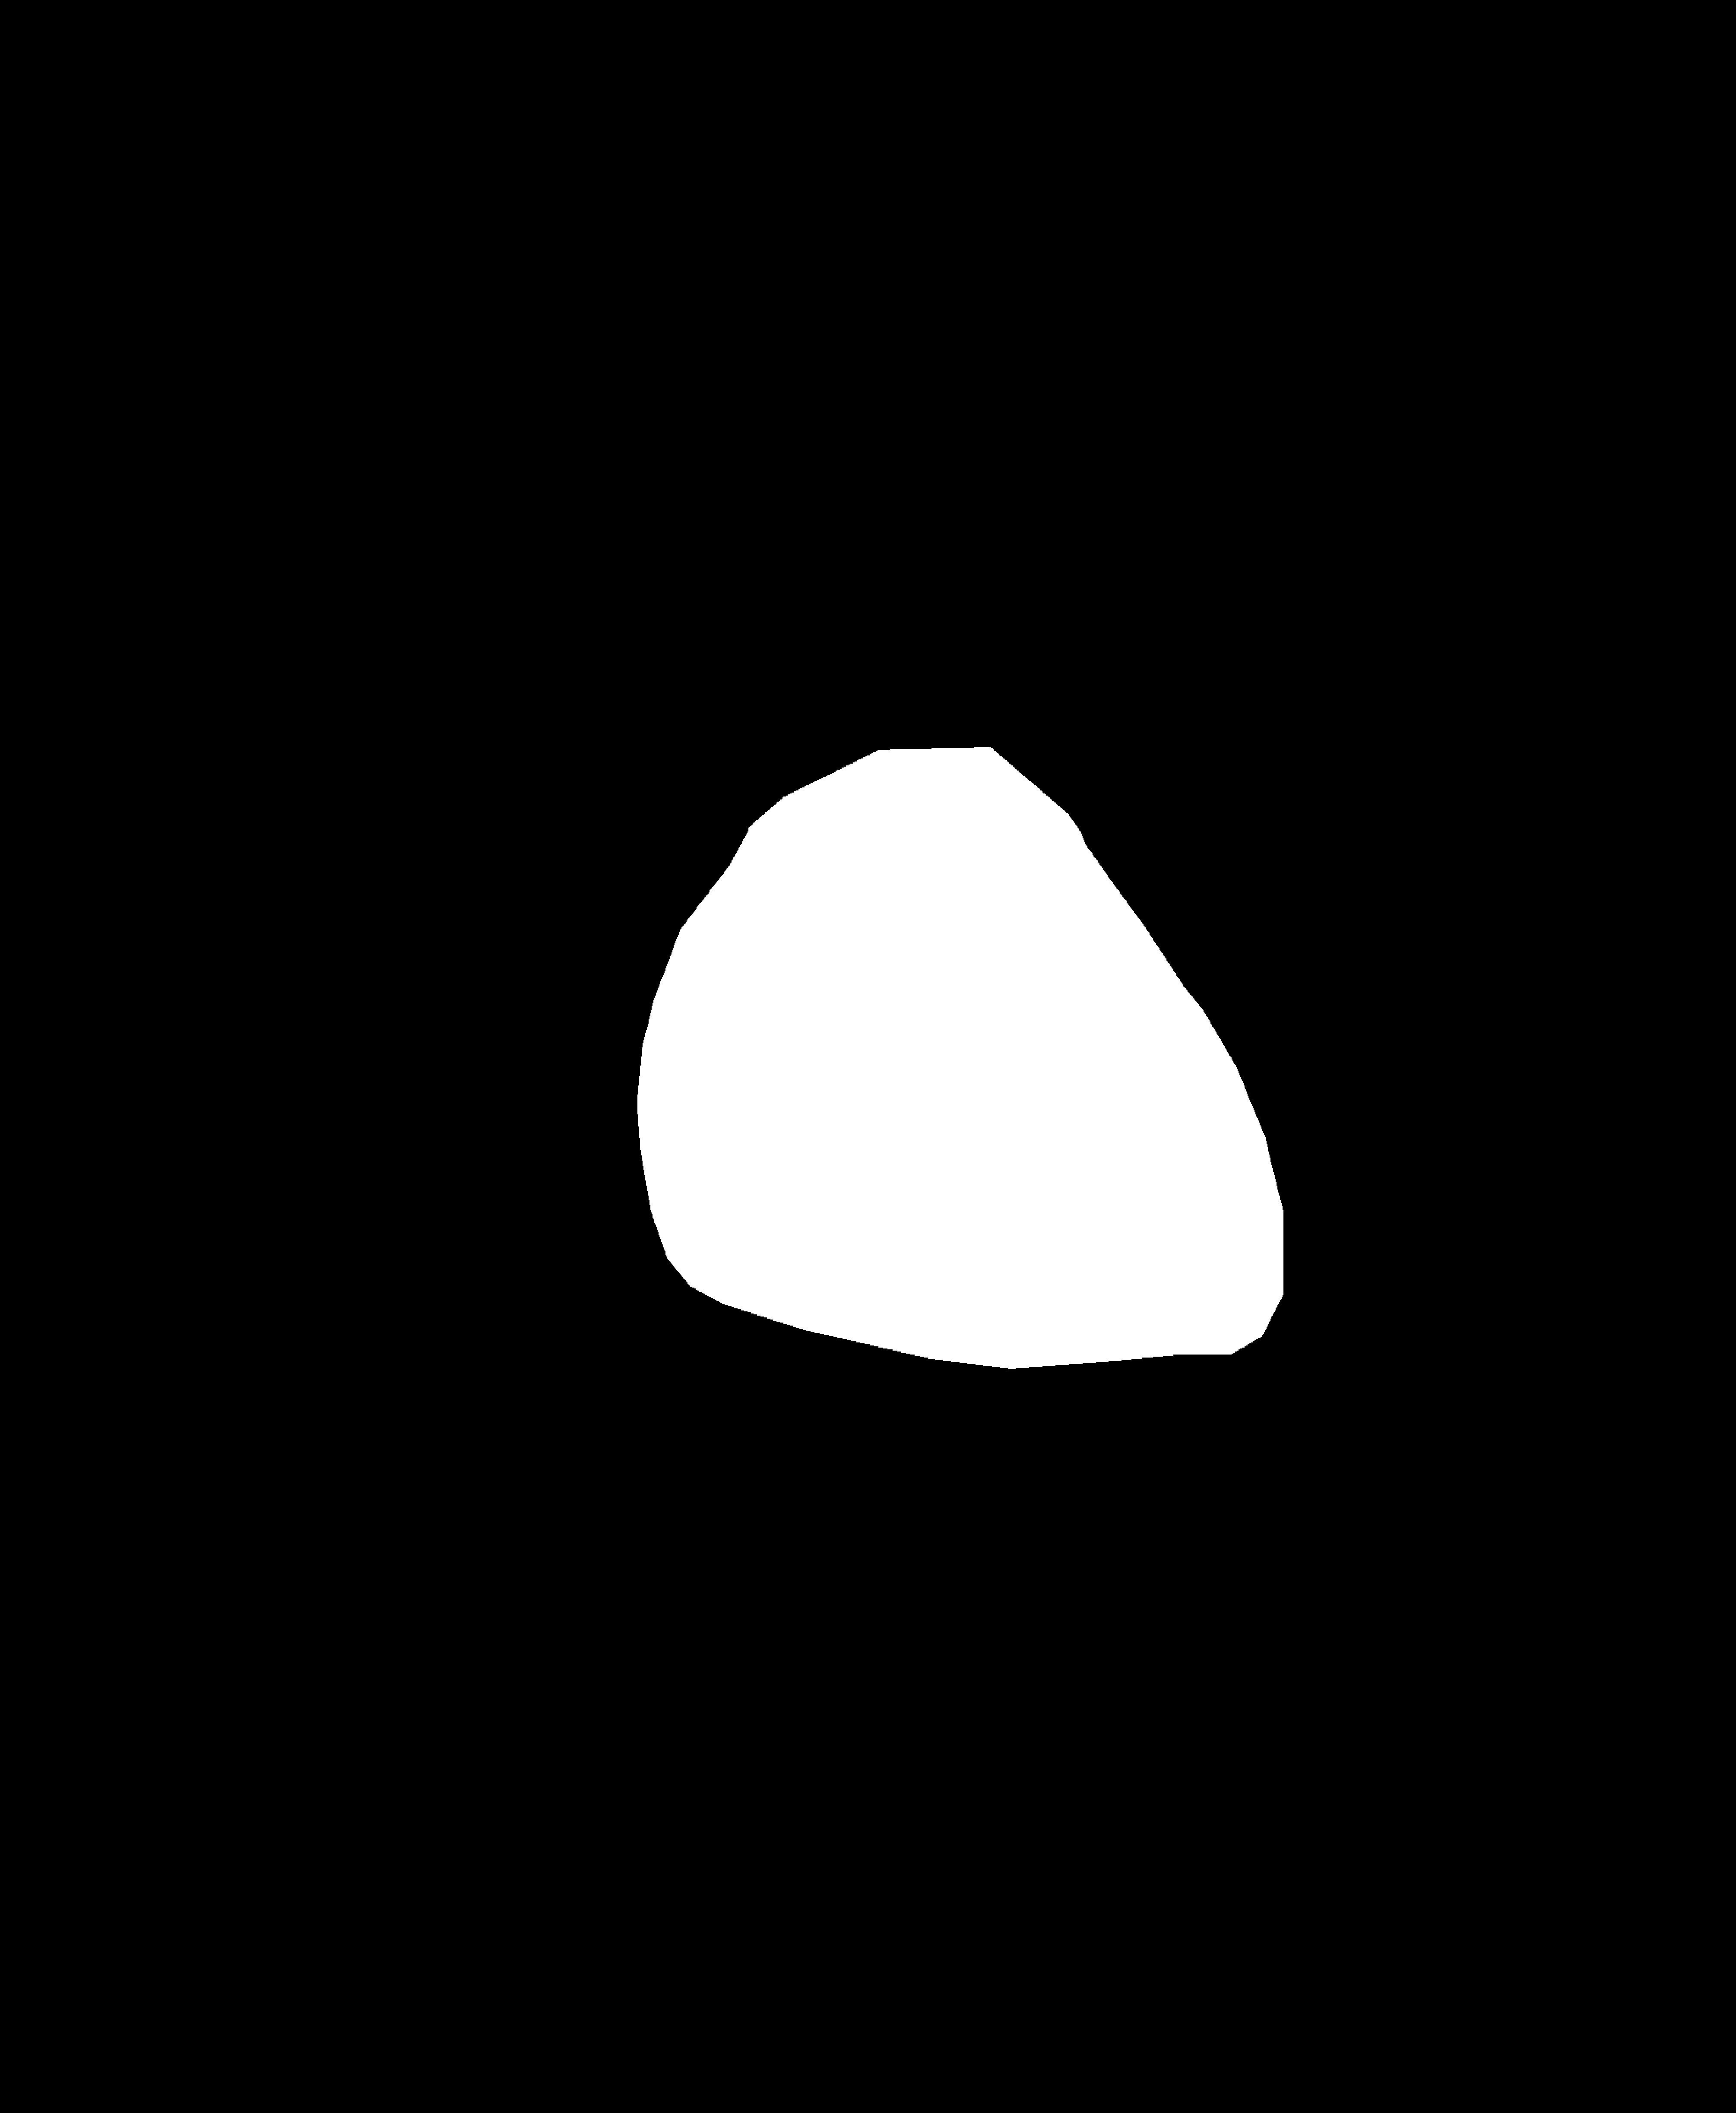heart: (634, 865, 1280, 1341)
left_lung: (242, 214, 832, 1381)
right_lung: (913, 207, 1480, 1444)
